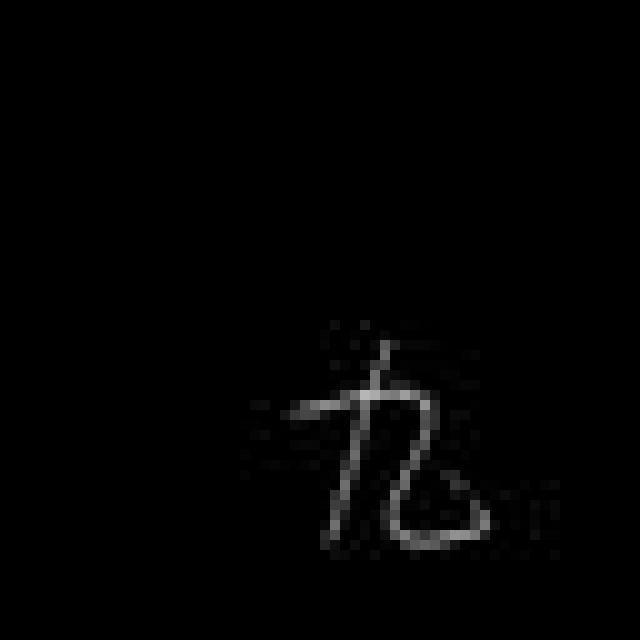9 -nine-: (286, 336, 498, 558)
